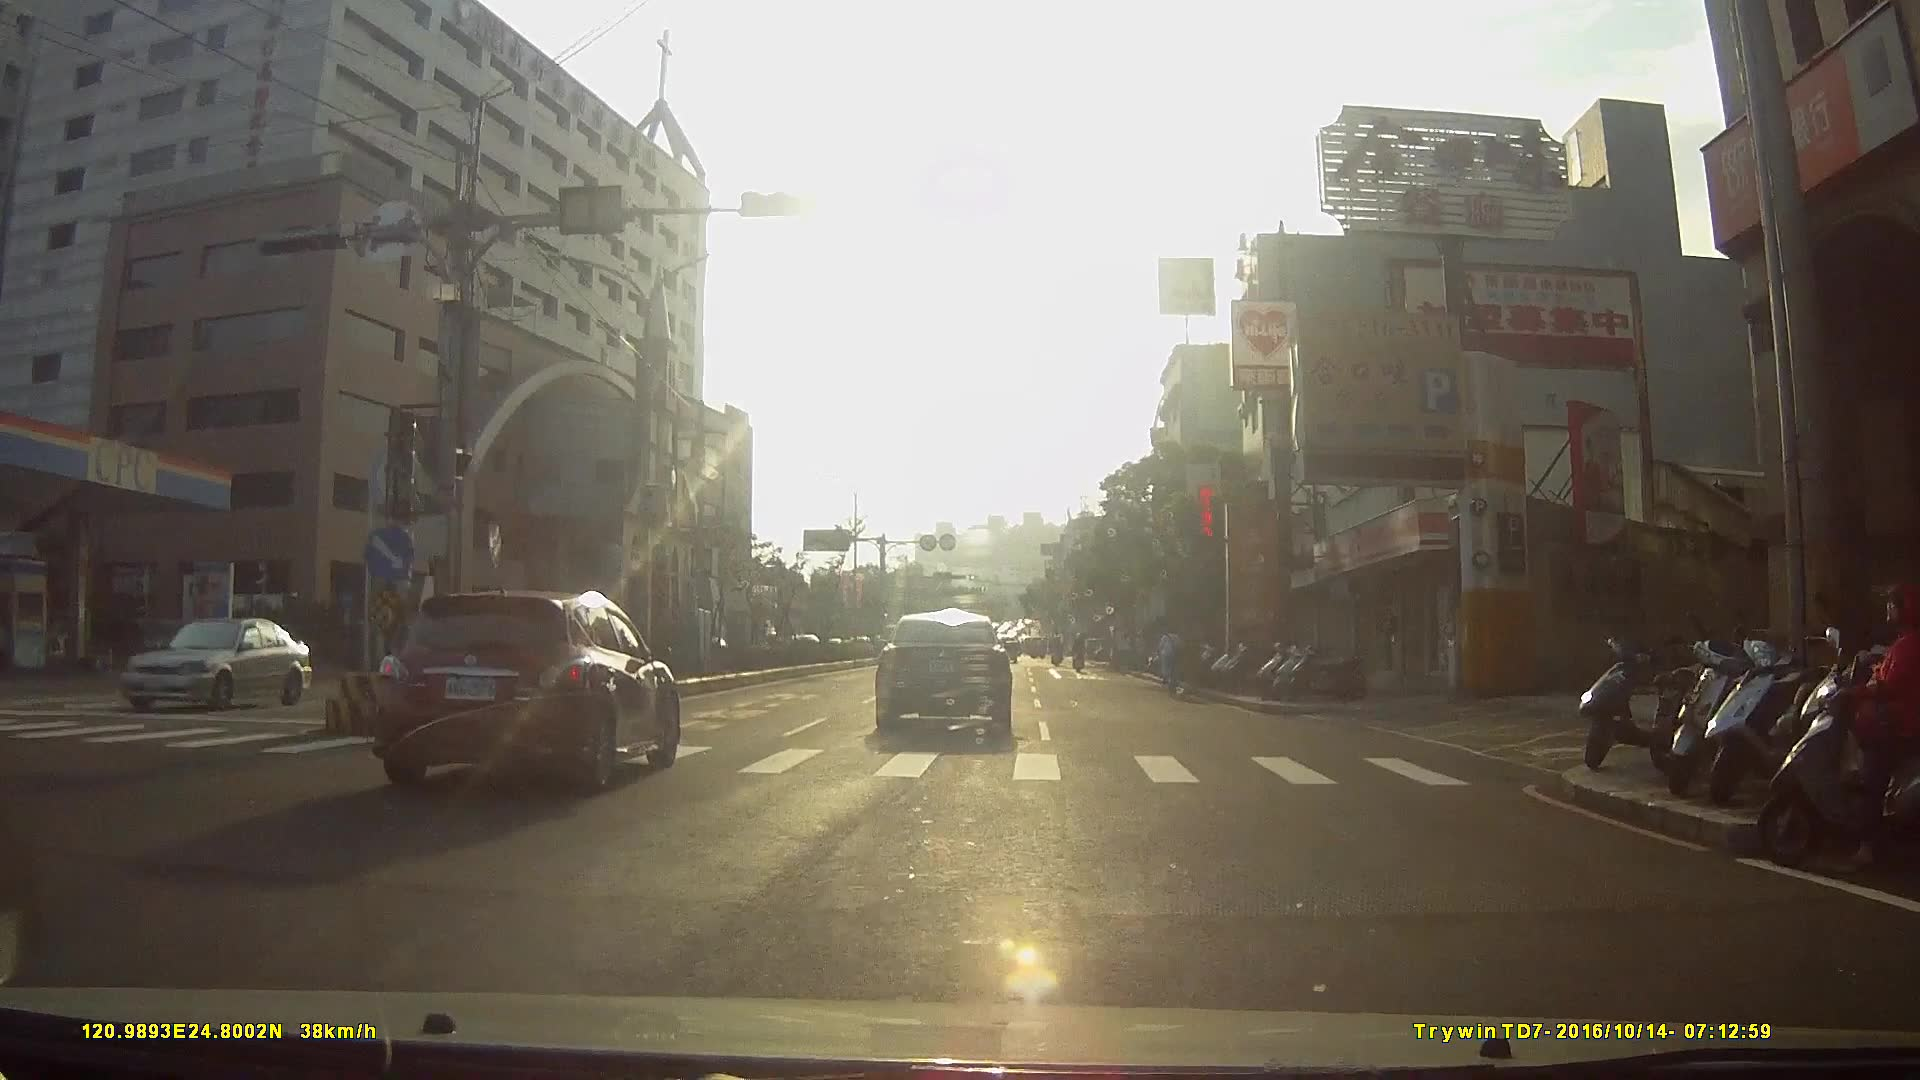rider: (1755, 582, 1920, 872), (1156, 622, 1185, 703)
vehicle: (370, 579, 693, 799), (106, 610, 315, 726), (868, 602, 1021, 738), (763, 607, 822, 662)
